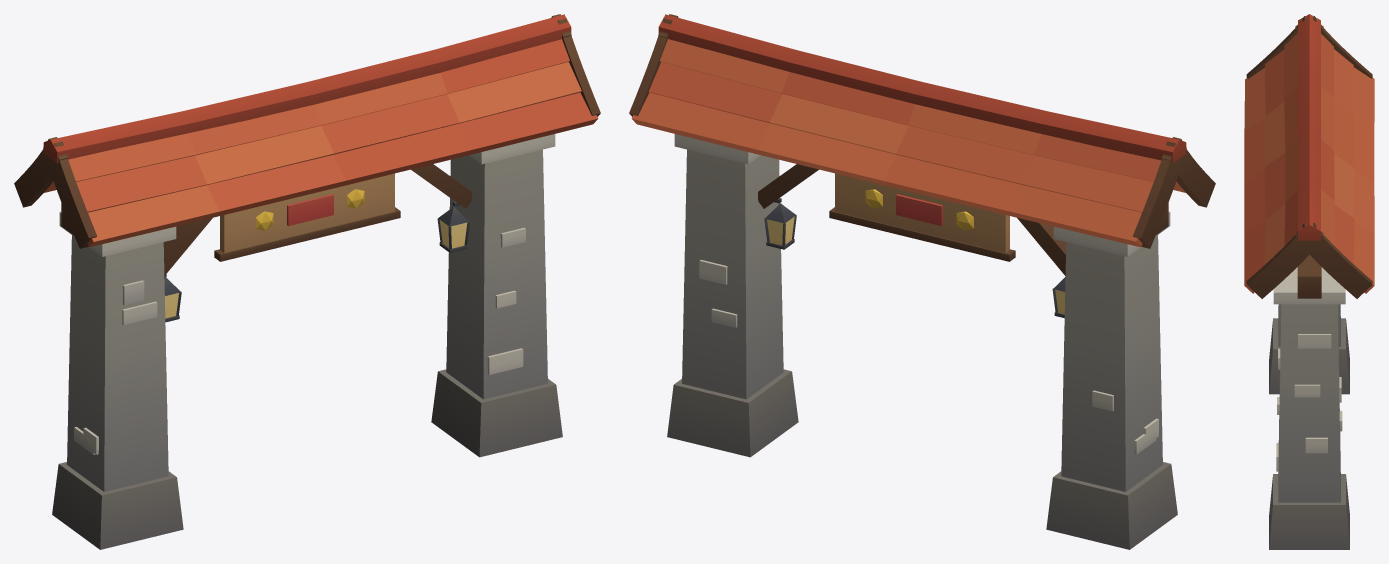
Rendered from gate_arch.glb.
The picture shows the model from 3 angles, left to right: view 1: azimuth 30°, elevation 25°; view 2: azimuth 150°, elevation 25°; view 3: azimuth 270°, elevation 25°; orthographic projection. The views are drawn at different scales.
Visible parts, largest first — view 1: gate_arch; view 2: gate_arch; view 3: gate_arch.
Part boxes in pixels (left/top/right/bottom): gate_arch: left=14, top=14, right=600, bottom=549; gate_arch: left=629, top=14, right=1215, bottom=549; gate_arch: left=1244, top=14, right=1374, bottom=549.
Size of the model in its own units: 27.1 by 20.1 by 7.09.
Materials: 1 (1 with a texture image).
